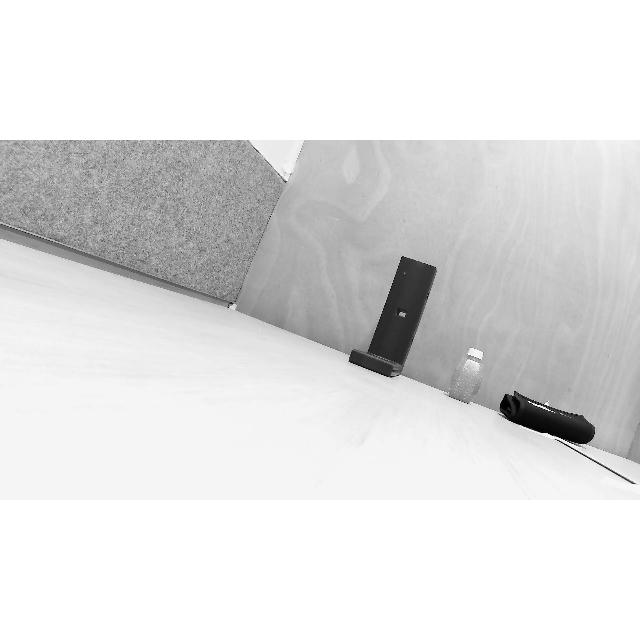targets: (348, 252, 436, 378), (494, 390, 598, 450), (448, 348, 496, 404)
